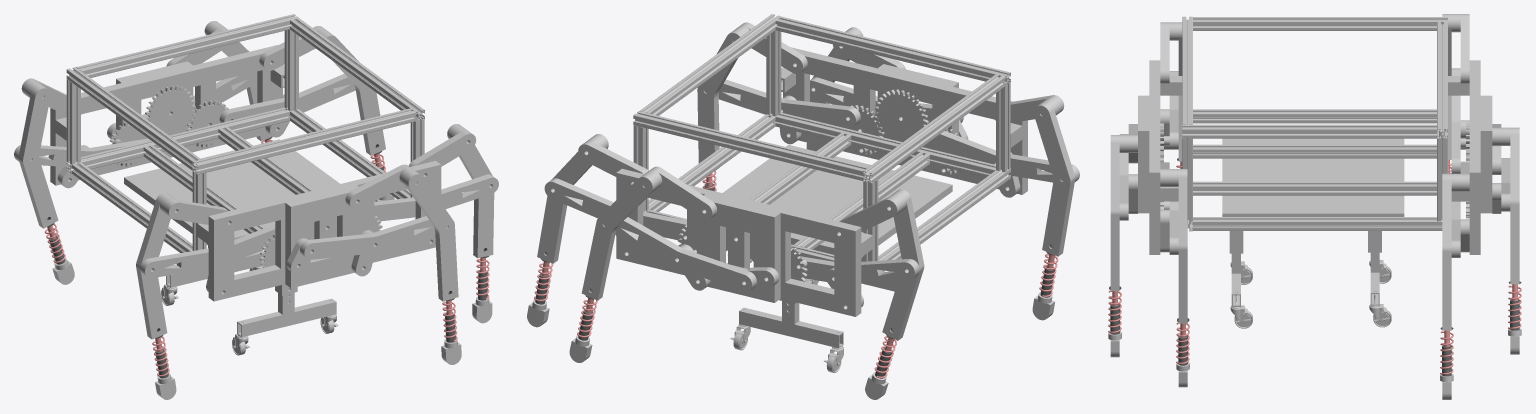
The model's file is hexapod-v3.glb.
3 renders of one model, left to right at view 1: azimuth 30°, elevation 25°; view 2: azimuth 150°, elevation 25°; view 3: azimuth 270°, elevation 25°, orthographic. The views are drawn at different scales.
Visible parts, largest first — view 1: Body1.014, Body1.013, Body1.090, Body1.048, Body1.011, Body1.009, Body1.076, Body1.051, Body1.003, Body1.010, Body1.008, Body1.064 (+35 smaller); view 2: Body1.013, Body1.014, Body1.090, Body1.054, Body1.009, Body1.011, Body1.072, Body1.058, Body1.002, Body1.010, Body1.035, Body1.063 (+29 smaller); view 3: Body1.090, Body1.008, Body1.001, Body1.060, Body1.061, Body1.010, Body1, Body1.013, Body1.014, Body1.067, Body1.076, Body1.070 (+21 smaller).
Boxes of the visible parts, x1,y1,x2,y2 form: Body1.014: [208, 160, 441, 301]; Body1.013: [50, 45, 282, 185]; Body1.090: [124, 139, 339, 245]; Body1.048: [285, 185, 362, 288]; Body1.011: [192, 108, 415, 174]; Body1.009: [76, 14, 298, 77]; Body1.076: [404, 171, 458, 301]; Body1.051: [300, 216, 435, 259]; Body1.003: [66, 107, 289, 173]; Body1.010: [66, 67, 200, 170]; Body1.008: [290, 18, 424, 121]; Body1.064: [23, 85, 58, 228]; Body1.013: [616, 168, 861, 316]; Body1.014: [783, 47, 1027, 194]; Body1.090: [722, 144, 952, 257]; Body1.054: [699, 194, 780, 302]; Body1.009: [633, 111, 868, 180]; Body1.011: [775, 16, 1010, 86]; Body1.072: [1033, 102, 1075, 256]; Body1.058: [615, 217, 756, 291]; Body1.002: [768, 112, 995, 177]; Body1.010: [863, 74, 1005, 183]; Body1.035: [718, 79, 860, 127]; Body1.063: [882, 190, 924, 340]; Body1.090: [1222, 138, 1404, 216]; Body1.008: [1182, 124, 1436, 138]; Body1.001: [1193, 109, 1436, 123]; Body1.060: [1193, 144, 1436, 158]; Body1.061: [1193, 181, 1436, 195]; Body1.010: [1193, 17, 1447, 30]; Body1: [1193, 217, 1442, 230]; Body1.013: [1469, 60, 1480, 254]; Body1.014: [1149, 60, 1160, 254]; Body1.067: [1442, 173, 1451, 330]; Body1.076: [1110, 135, 1119, 291]; Body1.070: [1510, 128, 1519, 284].
Bounding box in the file's own units: 1.24 × 0.7025 × 1.14.
